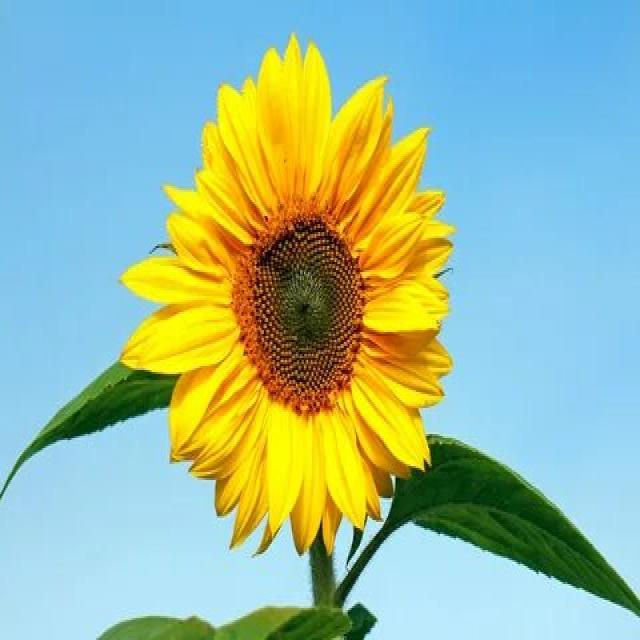sunflower: (130, 24, 466, 548)
